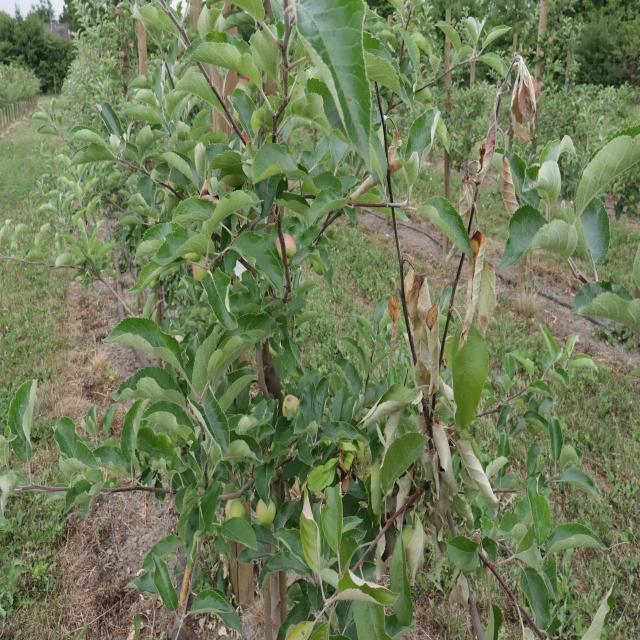-FireBlight-: (396, 263, 454, 407), (424, 404, 494, 510), (462, 228, 499, 336), (510, 58, 546, 158), (497, 148, 522, 216), (486, 108, 496, 186)
